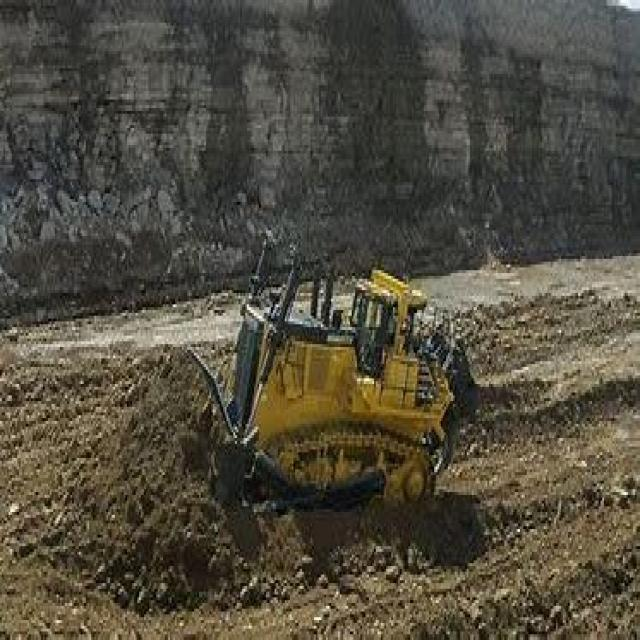Bulldozer: (172, 216, 468, 543)
